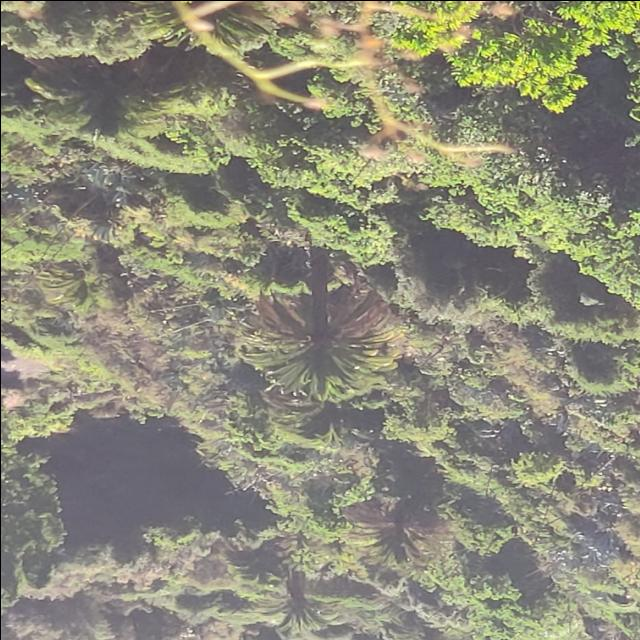Palm-Trees: (237, 241, 401, 400), (19, 46, 174, 138), (351, 492, 435, 564), (264, 568, 339, 632)
